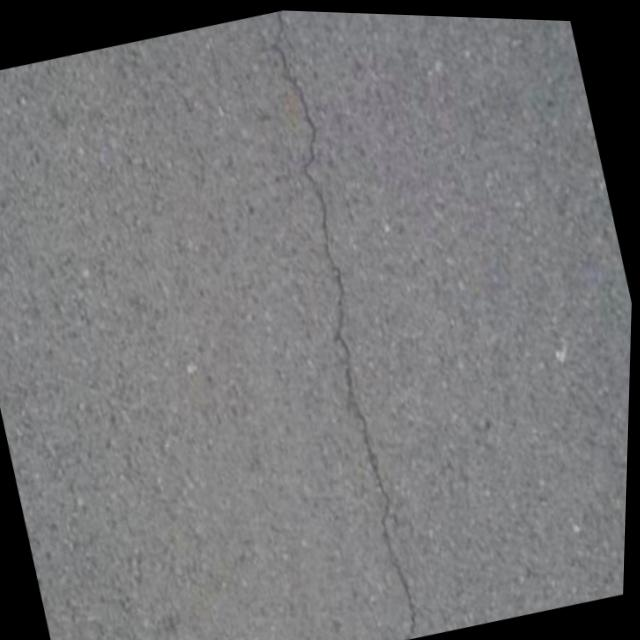Crack: (225, 7, 471, 640)
